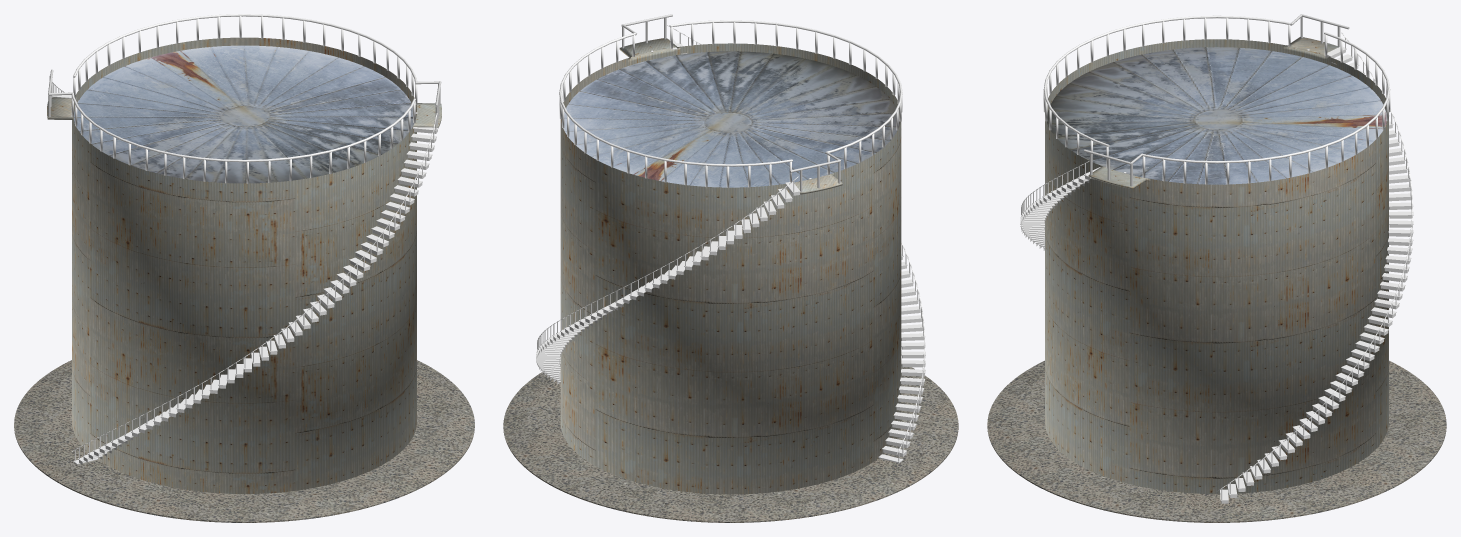
Rendered from StorageTank.glb.
The picture shows the model from 3 angles, left to right: view 1: azimuth 30°, elevation 25°; view 2: azimuth 150°, elevation 25°; view 3: azimuth 270°, elevation 25°; orthographic projection.
Parts seen in each view (by area): view 1: Object_6, Object_5, Object_4, Object_12, Object_10, Object_3, Object_13, Object_14, Object_11; view 2: Object_6, Object_5, Object_4, Object_13, Object_10, Object_12, Object_3, Object_14, Object_11, Object_15; view 3: Object_6, Object_5, Object_4, Object_12, Object_13, Object_10, Object_14, Object_3, Object_11, Object_15.
Boxes of the visible parts, x1,y1,x2,y2 form: Object_6: (47, 37, 441, 493); Object_5: (74, 45, 414, 183); Object_4: (14, 360, 474, 522); Object_12: (52, 82, 438, 315); Object_10: (71, 16, 417, 183); Object_3: (71, 14, 417, 162); Object_13: (73, 307, 318, 464); Object_14: (218, 314, 310, 388); Object_11: (52, 81, 437, 451); Object_6: (560, 38, 901, 494); Object_5: (563, 51, 899, 187); Object_4: (503, 364, 958, 522); Object_13: (536, 272, 925, 463); Object_10: (559, 22, 902, 187); Object_12: (615, 32, 800, 307); Object_3: (559, 20, 902, 166); Object_14: (552, 245, 911, 341); Object_11: (537, 25, 925, 455); Object_15: (621, 14, 840, 188); Object_6: (1045, 37, 1388, 494); Object_5: (1047, 47, 1386, 184); Object_4: (987, 360, 1446, 522); Object_12: (1020, 38, 1413, 245); Object_13: (1022, 229, 1412, 503); Object_10: (1043, 17, 1390, 184); Object_14: (1023, 231, 1411, 352); Object_3: (1043, 15, 1390, 163); Object_11: (1021, 32, 1412, 491); Object_15: (1084, 14, 1349, 186).
Size of the model in its own units: 2.75 by 2.23 by 2.75.
5 materials, 3 textured.
